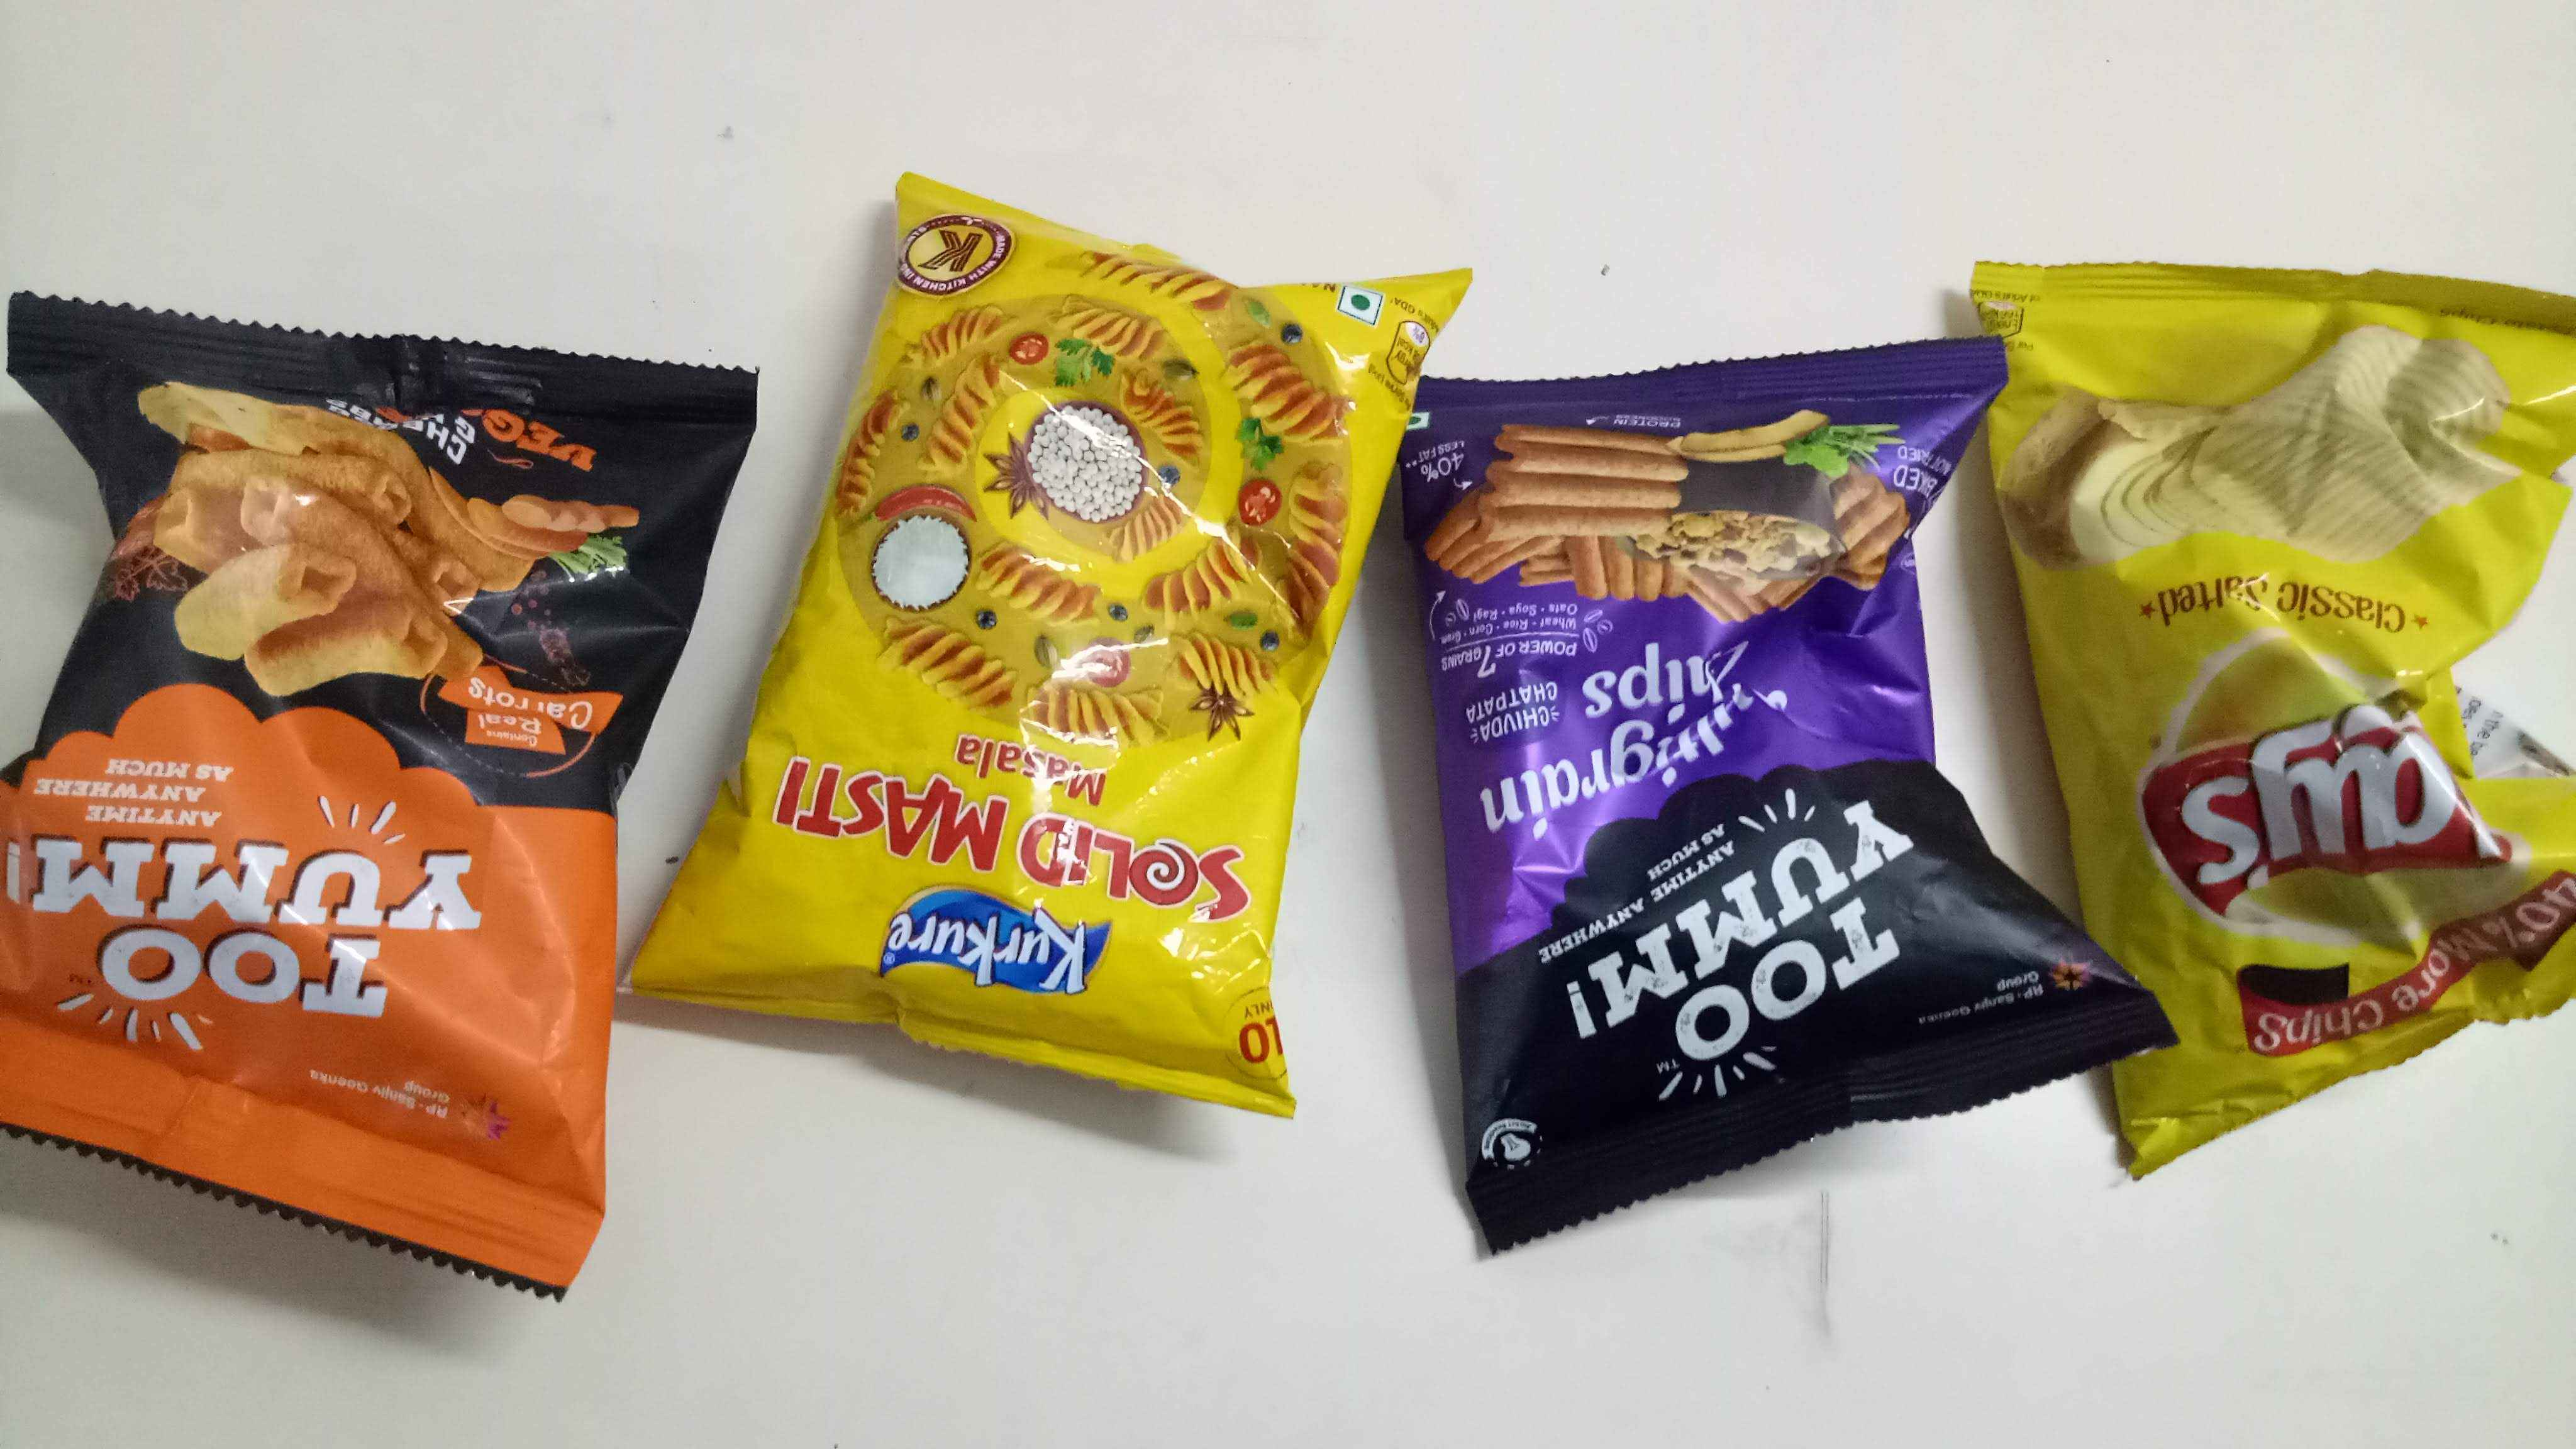Lays: (2141, 633, 2491, 962)
kurkure: (863, 879, 1115, 1028)
tooyumm: (1573, 794, 1928, 1127), (9, 819, 540, 1031)
